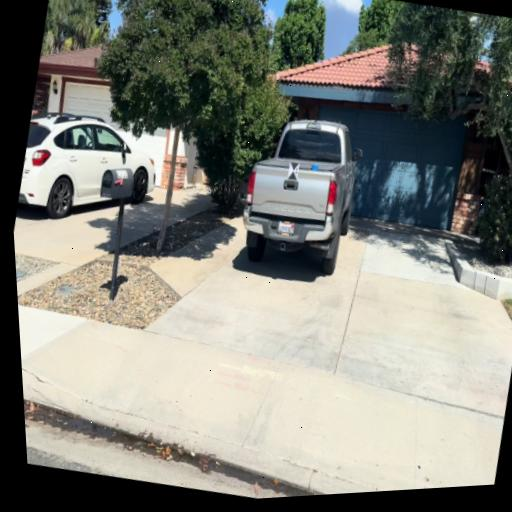target1: (287, 161, 300, 181)
